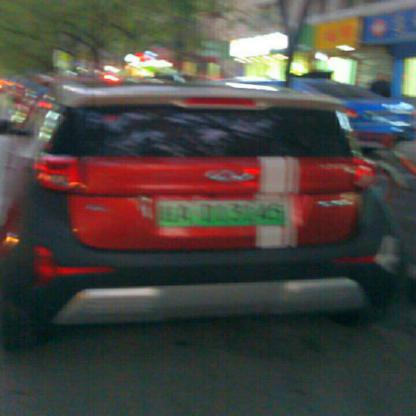lp: (155, 200, 284, 226)
